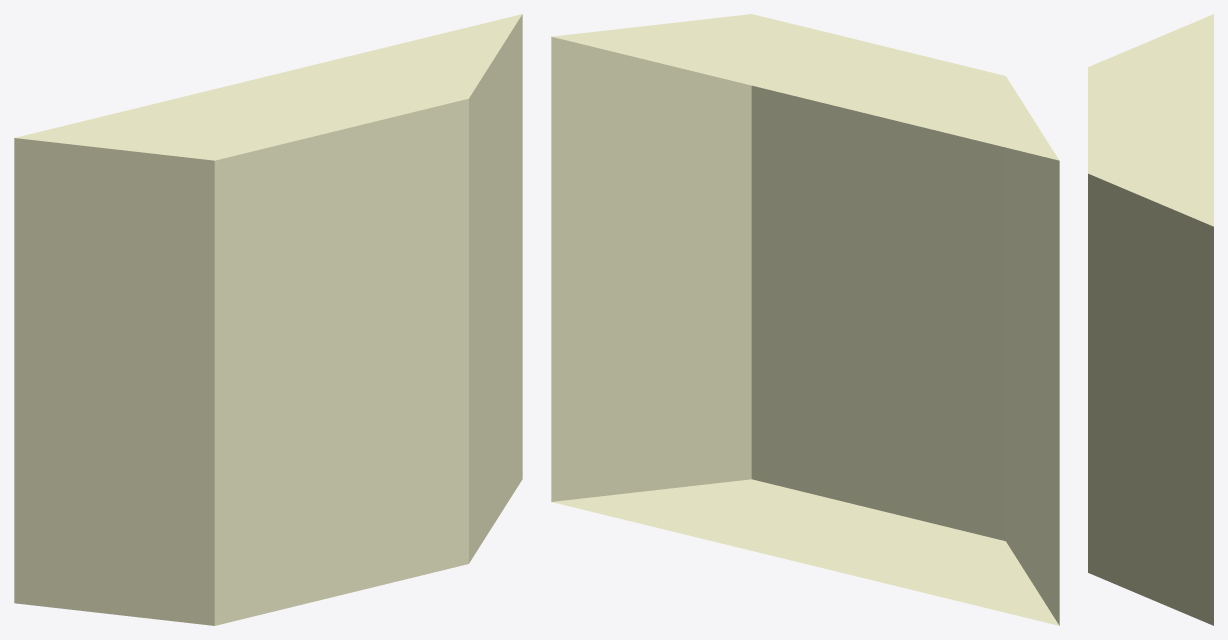
Rendered from single_bay.glb.
3 renders of one model, left to right at view 1: azimuth 30°, elevation 25°; view 2: azimuth 150°, elevation 25°; view 3: azimuth 270°, elevation 25°, orthographic. The views are drawn at different scales.
Visible parts, largest first — view 1: Wall.003; view 2: Wall.003; view 3: Wall.003.
Part boxes in pixels (box(x1,y1,x2,y2)): Wall.003: box(14, 14, 522, 625); Wall.003: box(551, 14, 1059, 625); Wall.003: box(1088, 14, 1213, 625).
Bounding box in the file's own units: 4 × 3.5 × 1.
1 material, 1 textured.
